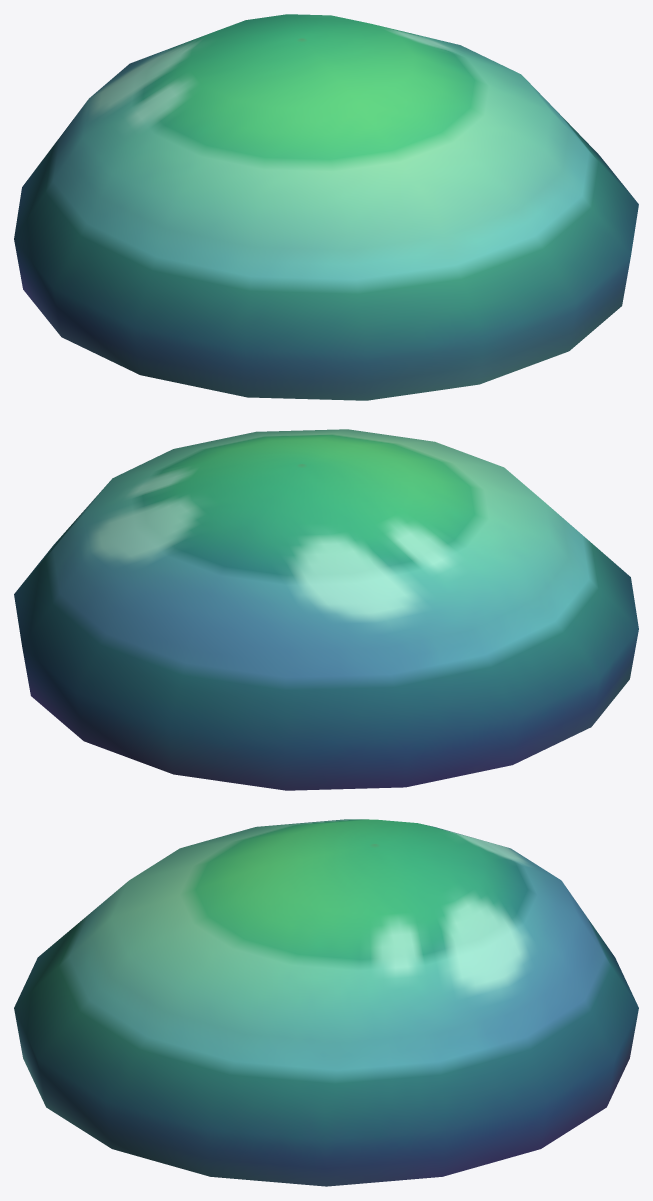
The model's file is scenes_around_candy02b.FBX.
3 renders of one model, top to bottom at view 1: azimuth 30°, elevation 25°; view 2: azimuth 150°, elevation 25°; view 3: azimuth 270°, elevation 25°, orthographic.
Visible parts, largest first — view 1: scenes_around_candy02b; view 2: scenes_around_candy02b; view 3: scenes_around_candy02b.
Boxes of the visible parts, x1,y1,x2,y2 form: scenes_around_candy02b: (14,14,638,400); scenes_around_candy02b: (14,429,638,790); scenes_around_candy02b: (14,819,638,1186).
Size of the model in its own units: 2181 by 823 by 2181.
